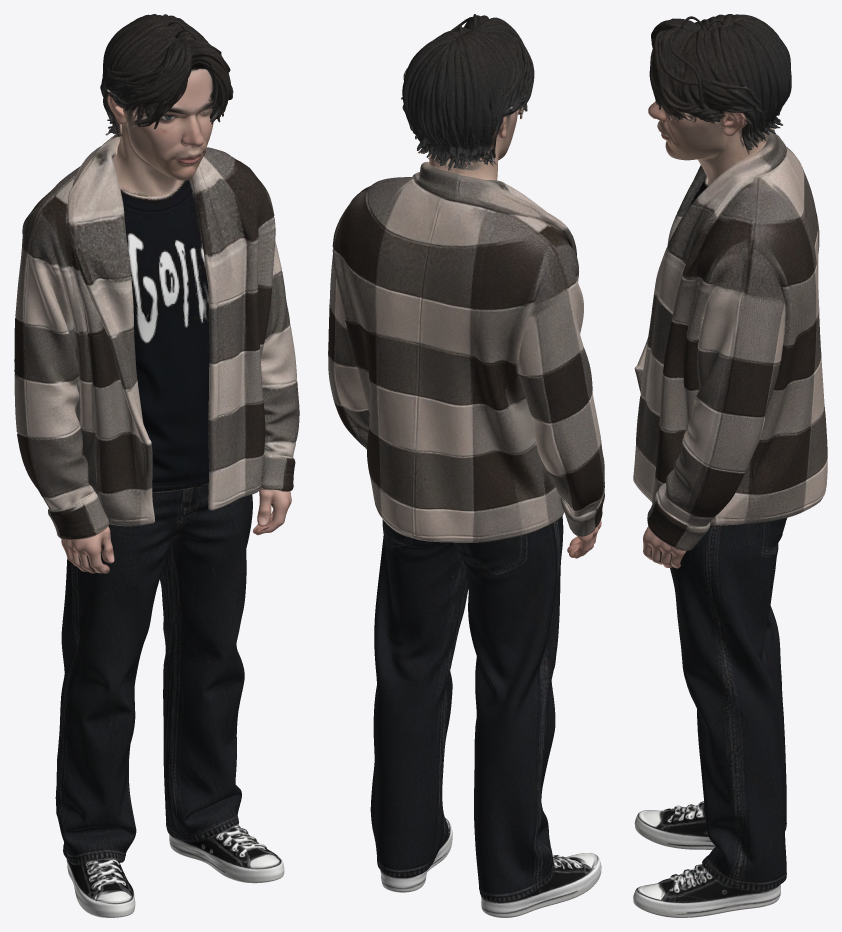
File: extracted_model.glb
The picture shows the model from 3 angles, left to right: view 1: azimuth 30°, elevation 25°; view 2: azimuth 150°, elevation 25°; view 3: azimuth 270°, elevation 25°; orthographic projection.
Bounding box in the file's own units: 0.6119 × 1.9 × 0.3884.
1 material, 1 textured.
